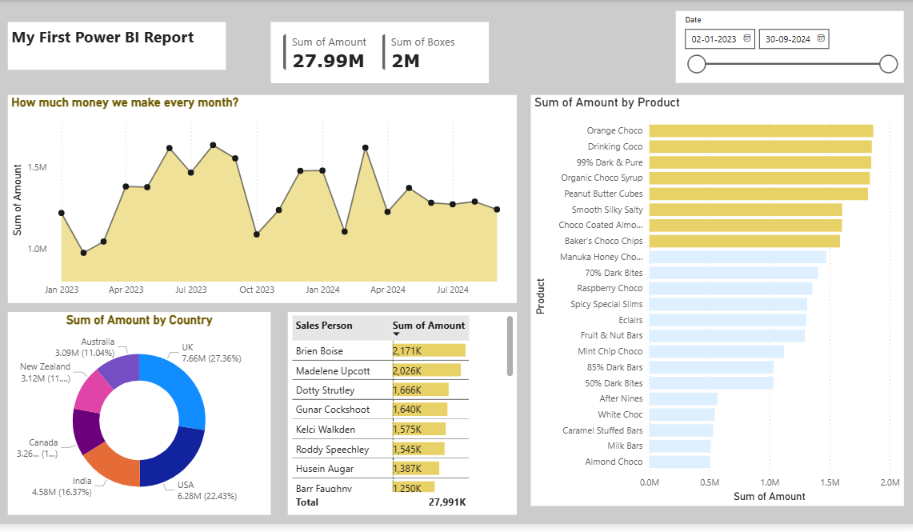

The page's visual inventory and layout, read from the dashboard file:
{"tool":"powerbi","page":{"name":"My First Report","canvas":[1280,720],"ordinal":1},"visuals":[{"type":"lineChart","title":"How much money we make every month?","fields":{"Category":["data.Date.Variation.Date Hierarchy.Year","data.Date.Variation.Date Hierarchy.Quarter","data.Date.Variation.Date Hierarchy.Month","data.Date.Variation.Date Hierarchy.Day"],"Y":["Sum(data.Amount)"]},"box":[26.1,130.4,698.5,285.4],"z":0},{"type":"donutChart","fields":{"Category":["data.Country"],"Y":["Sum(data.Amount)"]},"box":[26.1,428.1,360.9,278.6],"z":1},{"type":"tableEx","fields":{"Values":["data.Sales Person","Sum(data.Amount)"]},"box":[410.3,428.1,314.2,278.6],"z":2},{"type":"clusteredBarChart","fields":{"Category":["data.Product"],"Y":["Sum(data.Amount)"]},"box":[743.7,130.4,511.8,564],"z":3},{"type":"cardVisual","fields":{"Data":["Sum(data.Amount)","Sum(data.Boxes)"]},"box":[387,30.2,299.1,83.7],"z":4},{"type":"slicer","fields":{"Values":["data.Date"]},"box":[942.7,15.1,312.9,98.8],"z":5},{"type":"textbox","box":[26.1,30.2,299.1,65.9],"z":6}]}

Visuals, with their boxes in screenshot pixels (x1, y1, x2, y2):
"How much money we make every month?" lineChart: l=5, t=102, r=514, b=310
donutChart - data.Country x Sum(data.Amount): l=5, t=319, r=268, b=523
tableEx - data.Sales Person x Sum(data.Amount): l=285, t=319, r=514, b=523
clusteredBarChart - data.Product x Sum(data.Amount): l=528, t=102, r=901, b=514
cardVisual - Sum(data.Amount) x Sum(data.Boxes): l=268, t=29, r=486, b=90
slicer - data.Date: l=673, t=18, r=901, b=90
textbox: l=5, t=29, r=223, b=77
